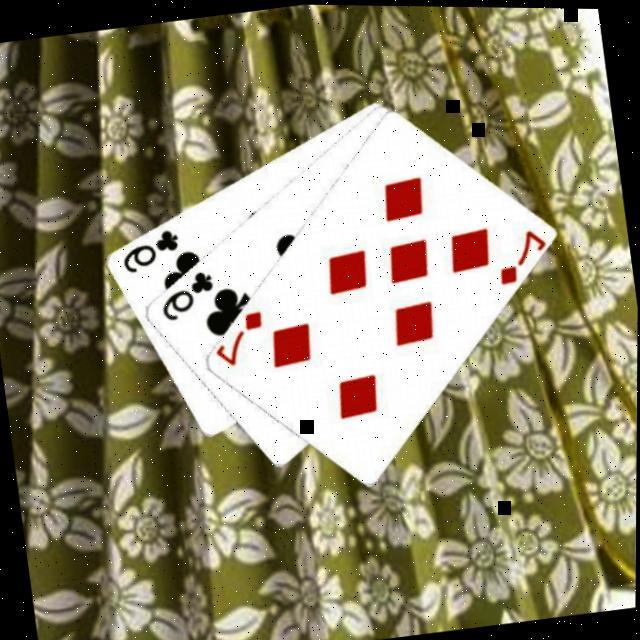6C: (154, 262, 222, 324), (116, 222, 185, 275)
7D: (209, 304, 271, 369), (491, 220, 552, 285)
